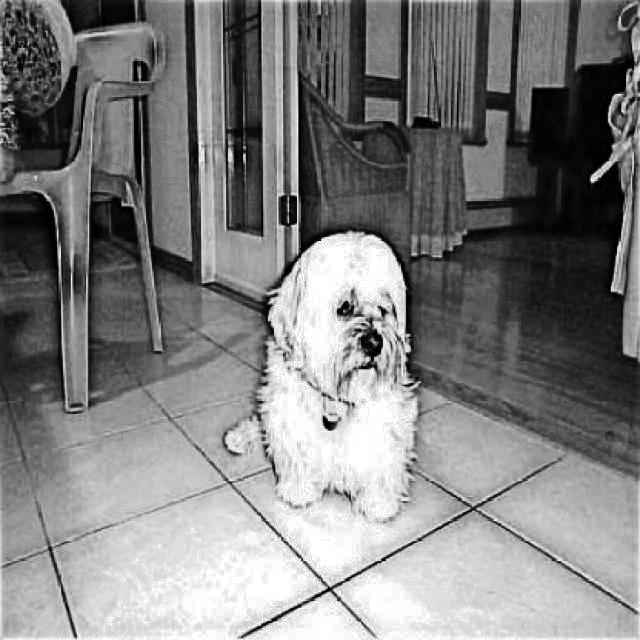Dog: (222, 229, 421, 534)
